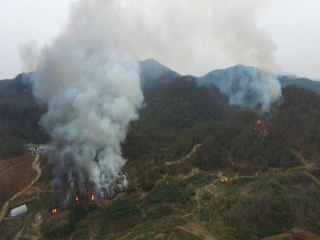smoke: (24, 7, 153, 201), (211, 5, 284, 116)
